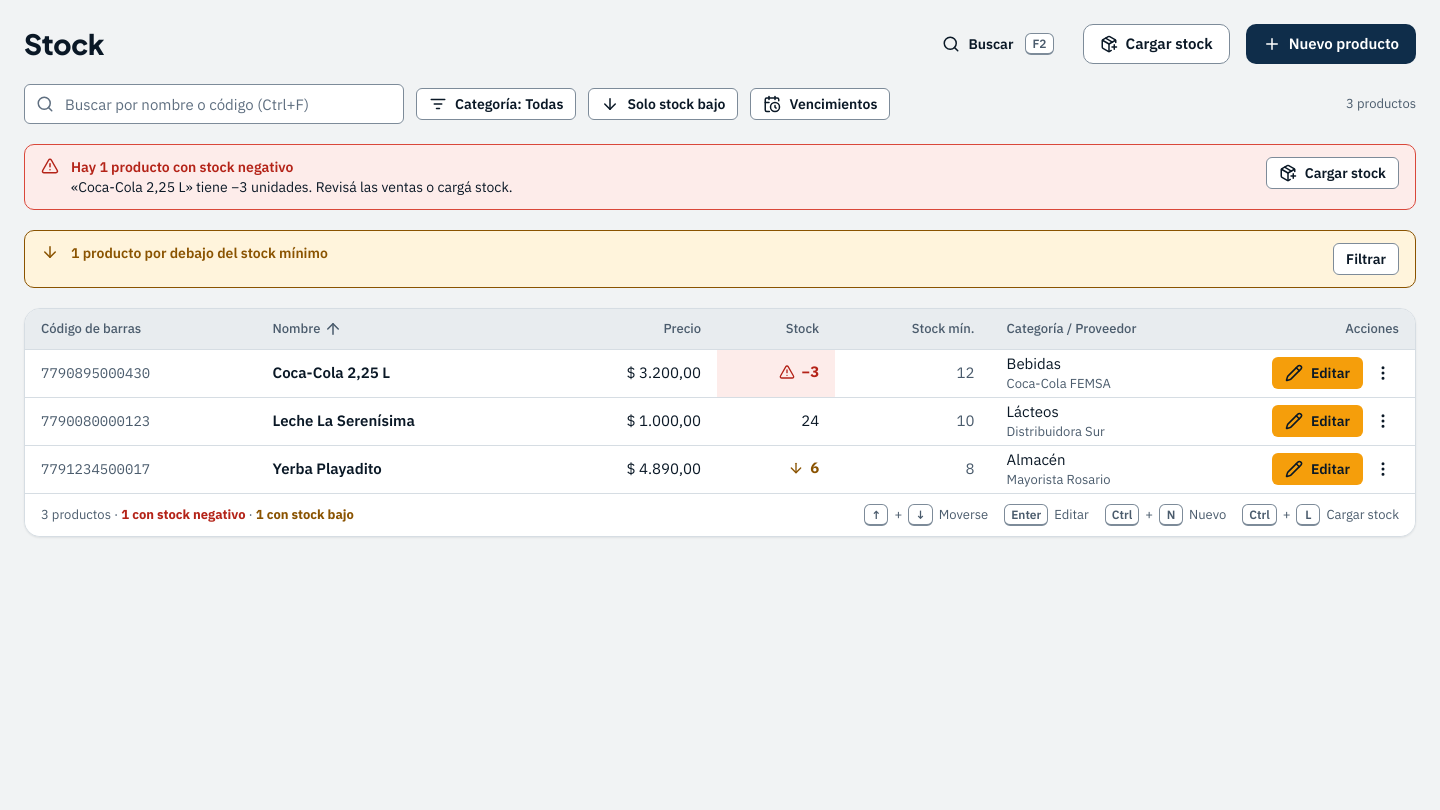
StockProducts — alertas de stock › stock negativo: celda is-negative y alerta danger; su botón abre Cargar stock en el paso 2
Expected: the text "«Coca-Cola 2,25 L» tiene −3 unidades. Revisá las ventas o cargá stock." is shown, [71,178,513,196]
Click the button "Cargar stock" in the row of "Hay 1 producto con stock negativo".
click(1332, 173)  # box [1266,157,1399,189]
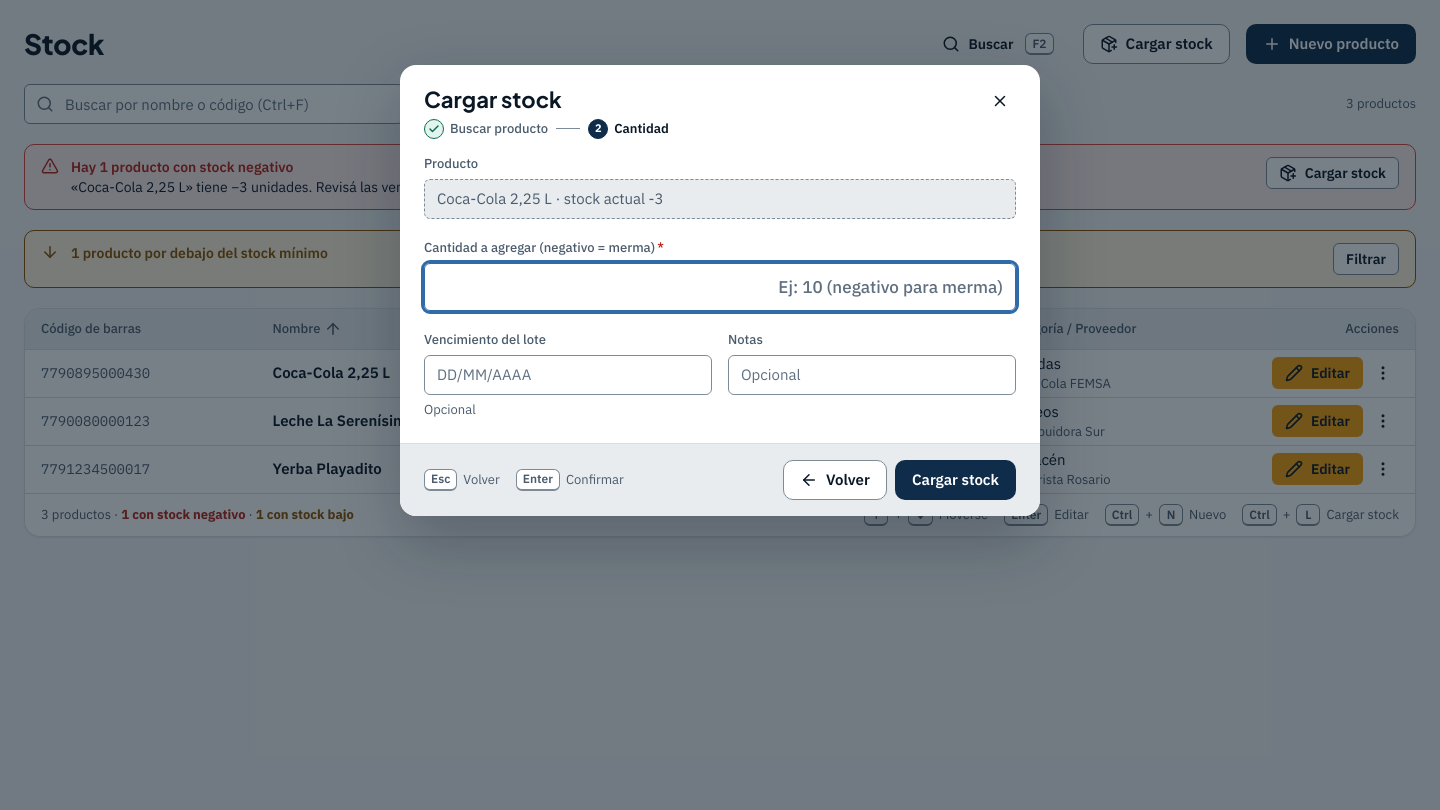
Result: the dialog "Cargar stock" is shown at [400,65,1040,516]
Result: the text "Cantidad a agregar (negativo = merma)" is shown at [424,239,655,256]
Result: the field showing "Coca-Cola 2,25 L · stock actual -3" is shown at [424,179,1016,219]
